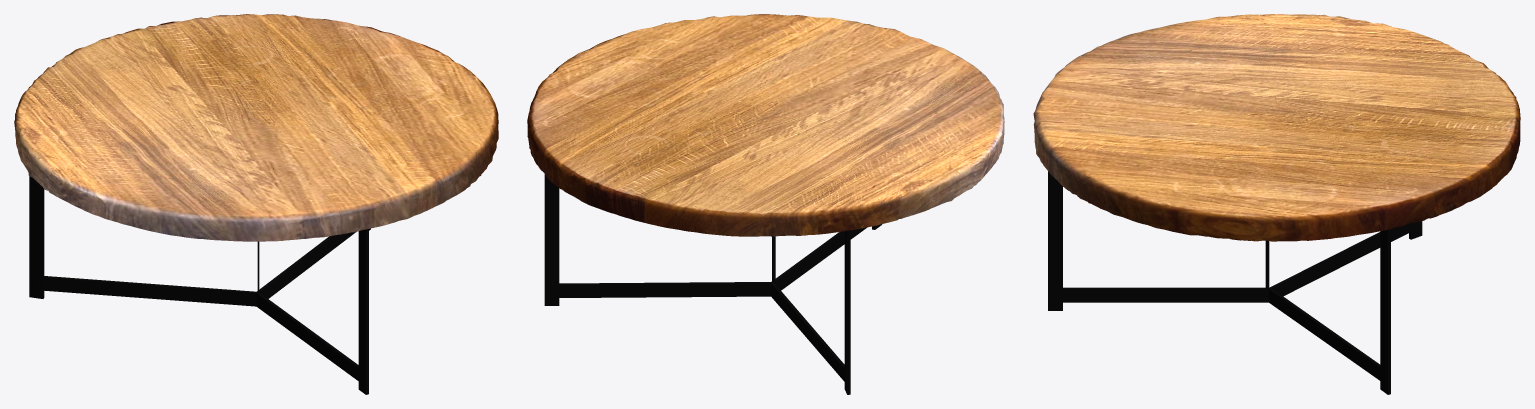
Rendered from mesacafe.glb.
3 views of the same model, side by side, from view 1: azimuth 30°, elevation 25°; view 2: azimuth 150°, elevation 25°; view 3: azimuth 270°, elevation 25° (orthographic). The views are drawn at different scales.
Parts seen in each view (by area): view 1: unnamed 2_4, object 7, object 5, object 9, object 8, object 6; view 2: unnamed 2_4, object 6, object 4, object 7, object 8, object 5; view 3: unnamed 2_4, object 8, object 7, object 9, object 6, object 4.
Part boxes in pixels (x1,y1,x2,y2): unnamed 2_4: [14, 14, 498, 241]; object 7: [37, 276, 257, 306]; object 5: [29, 176, 44, 298]; object 9: [358, 229, 368, 394]; object 8: [256, 292, 362, 383]; object 6: [257, 232, 355, 298]; unnamed 2_4: [527, 14, 1004, 236]; object 6: [551, 282, 772, 298]; object 4: [544, 174, 559, 305]; object 7: [771, 282, 845, 382]; object 8: [771, 227, 867, 290]; object 5: [844, 230, 850, 394]; unnamed 2_4: [1033, 14, 1520, 241]; object 8: [1055, 287, 1268, 302]; object 7: [1269, 222, 1414, 296]; object 9: [1048, 171, 1062, 310]; object 6: [1269, 288, 1380, 380]; object 4: [1380, 229, 1390, 394].
Size of the model in its own units: 0.6004 by 0.2683 by 0.5966.
Materials: 2 (1 with a texture image).
